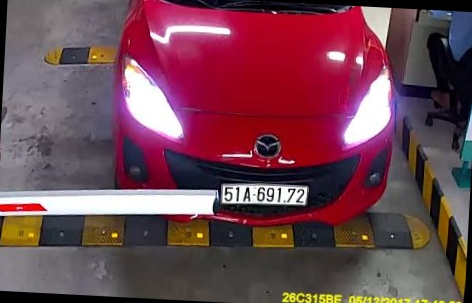plate: (218, 175, 315, 211)
